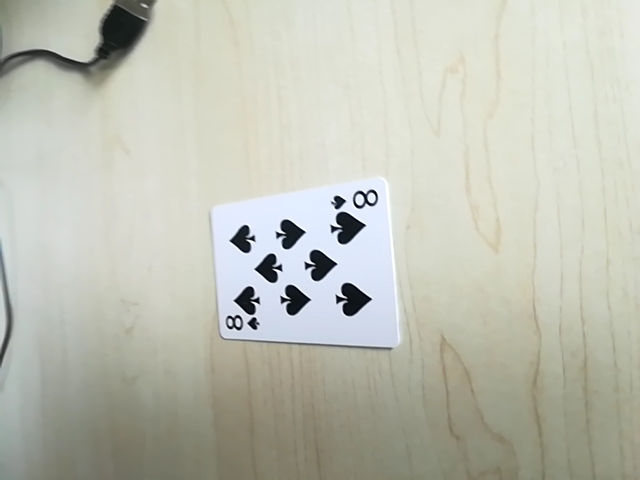ht 8: (333, 185, 384, 213), (218, 308, 258, 338)
